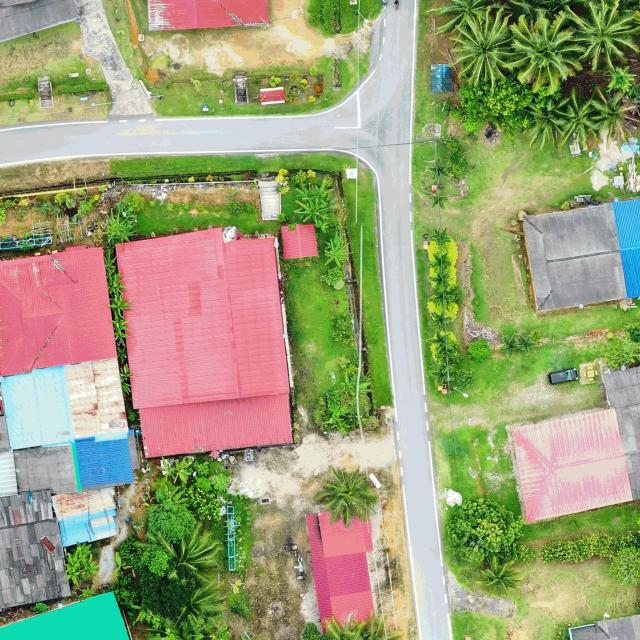0: (508, 11, 583, 91), (556, 0, 637, 74), (449, 10, 518, 90), (146, 525, 222, 588), (314, 462, 379, 527), (551, 88, 602, 153), (588, 84, 636, 147), (524, 97, 571, 148), (478, 555, 524, 598), (468, 337, 493, 362)
banana_tree2: (62, 542, 100, 587), (99, 210, 137, 244), (295, 180, 334, 206), (323, 230, 351, 266), (343, 371, 375, 399), (294, 200, 328, 224), (106, 295, 135, 319), (156, 485, 188, 505), (114, 201, 139, 225), (172, 456, 193, 484), (112, 553, 133, 578), (156, 456, 177, 480), (107, 273, 127, 295), (119, 364, 132, 394), (76, 584, 99, 600), (112, 326, 132, 344), (110, 314, 130, 332), (102, 250, 117, 272), (116, 345, 128, 364), (315, 220, 330, 234)
tree: (446, 495, 524, 563), (457, 76, 533, 133), (136, 561, 202, 617), (144, 499, 196, 542), (609, 546, 640, 585), (428, 364, 456, 386), (428, 309, 453, 332), (499, 335, 523, 358), (428, 287, 454, 308), (444, 535, 469, 556), (428, 157, 450, 180), (428, 228, 452, 248), (426, 330, 451, 349), (516, 334, 538, 354), (428, 252, 450, 271), (428, 271, 450, 289), (428, 192, 447, 211)
